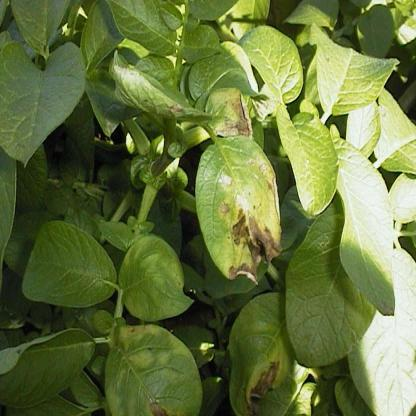Potato leaf late blight: (193, 134, 281, 288), (222, 288, 302, 415), (106, 321, 205, 415), (200, 84, 261, 144)
